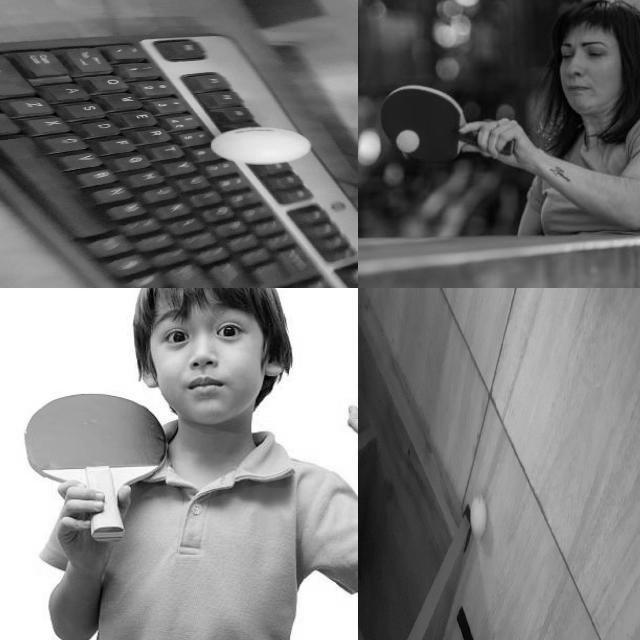ping-pong-ball: (212, 128, 312, 164), (471, 496, 486, 538), (394, 132, 418, 152)
